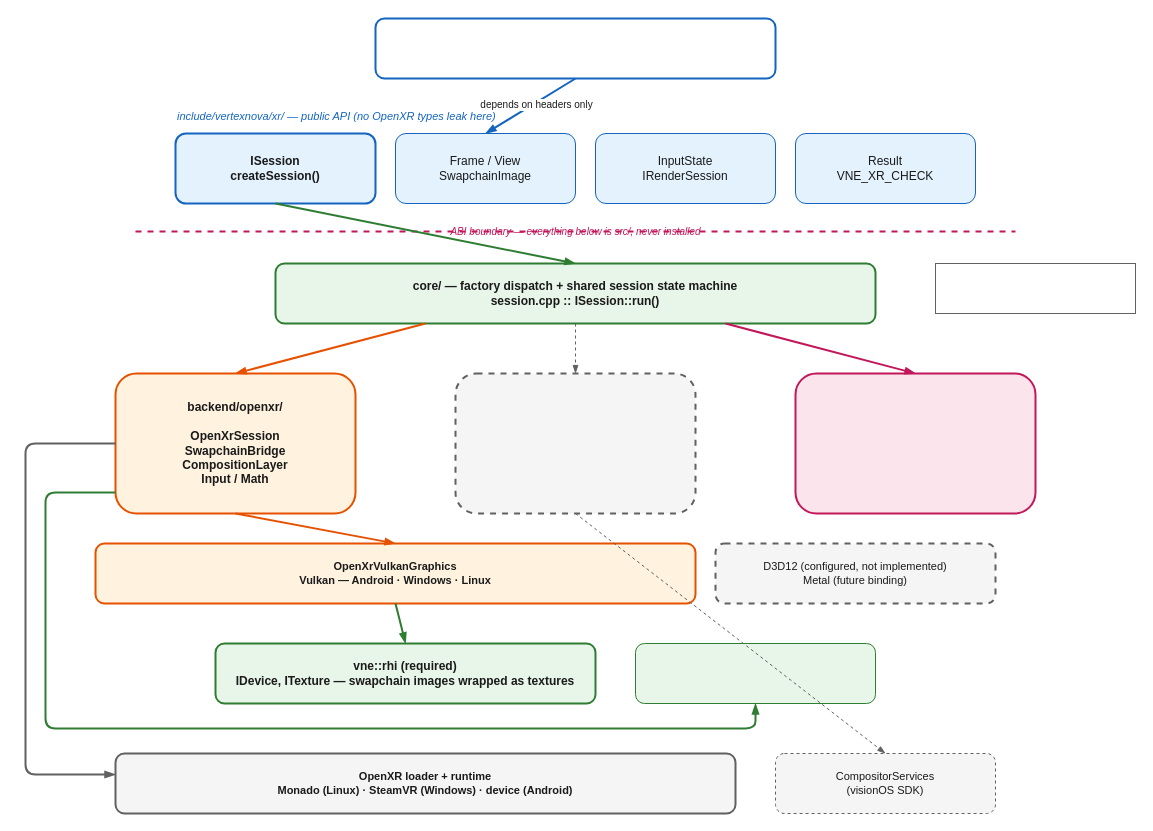
The diagram is 1153 pixels wide and 831 high, and some of its shapes have lost their labels. The centre of each missing label's shape, as x and y in pixels:
Application (sample shell, IRenderSession implementation): the point at 575,48
backend/visionos/ VisionOsSession (CompositorServices) stub today: the point at 575,443
core/null_session NullSession (CI / headless, no runtime): the point at 915,443
Solid = implemented today Dashed = designed, not yet built: the point at 1035,288
vne::math (required) poses, projections: the point at 755,673
